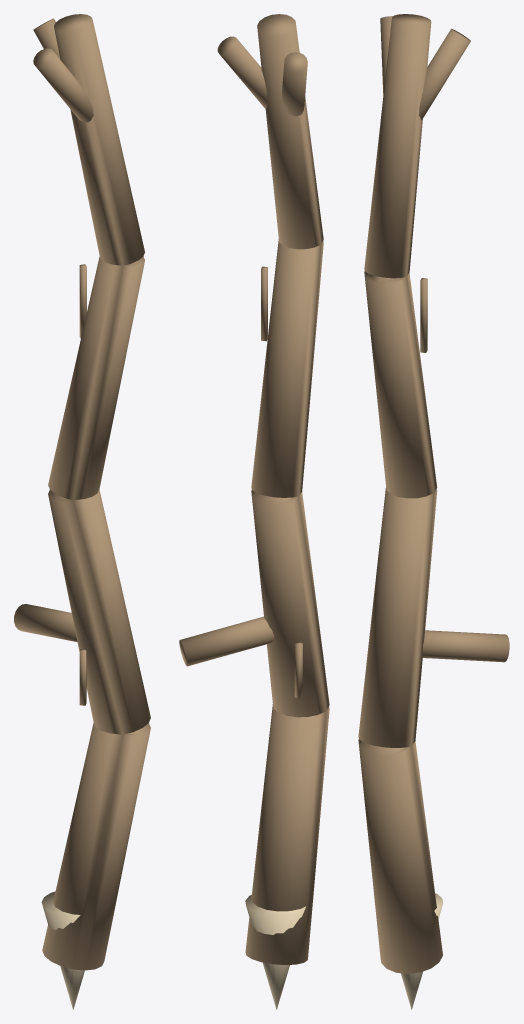
The model's file is stick_3.glb.
3 renders of one model, left to right at view 1: azimuth 90°, elevation 25°; view 2: azimuth 150°, elevation 25°; view 3: azimuth 330°, elevation 25°, orthographic.
Parts seen in each view (by area): view 1: Main_Shaft, Fork_A, Side_Branch, Frayed_Tip, Fork_B, Bark_Ridge_1, Bark_Ridge_2; view 2: Main_Shaft, Side_Branch, Frayed_Tip, Fork_B, Fork_A, Bark_Ridge_1, Bark_Ridge_2; view 3: Main_Shaft, Side_Branch, Fork_B, Bark_Ridge_1, Frayed_Tip, Fork_A.
Boxes of the visible parts, <box> form: Main_Shaft: <box>42,14,150,970</box>; Fork_A: <box>33,48,93,122</box>; Side_Branch: <box>14,604,77,641</box>; Frayed_Tip: <box>41,891,84,1009</box>; Fork_B: <box>33,18,60,59</box>; Bark_Ridge_1: <box>79,264,86,338</box>; Bark_Ridge_2: <box>79,649,86,705</box>; Main_Shaft: <box>245,14,329,964</box>; Side_Branch: <box>179,616,273,666</box>; Frayed_Tip: <box>245,895,306,1009</box>; Fork_B: <box>217,36,267,108</box>; Fork_A: <box>282,52,307,116</box>; Bark_Ridge_1: <box>261,266,267,341</box>; Bark_Ridge_2: <box>294,642,302,698</box>; Main_Shaft: <box>358,14,442,973</box>; Side_Branch: <box>422,630,509,662</box>; Fork_B: <box>419,28,470,120</box>; Bark_Ridge_1: <box>420,278,427,352</box>; Frayed_Tip: <box>401,893,443,1009</box>; Fork_A: <box>380,16,392,94</box>.
Size of the model in its own units: 0.0706 by 0.5519 by 0.0692.
